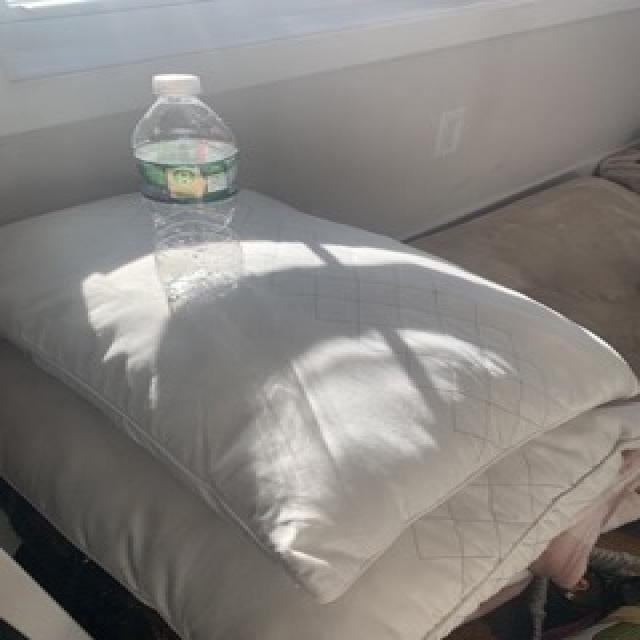water_bottle: (123, 71, 256, 312)
